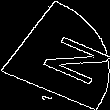N_NW: (12, 25, 98, 85)
